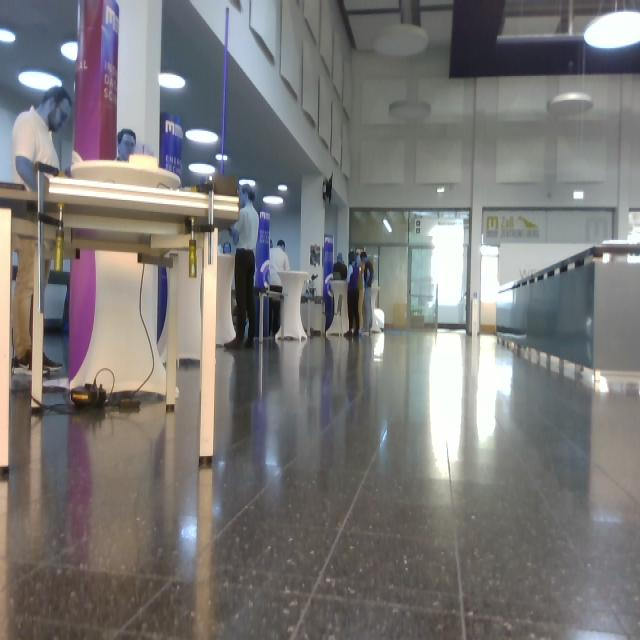door: (409, 211, 470, 331)
light bulb: (584, 9, 640, 50), (373, 24, 429, 58), (548, 92, 593, 117), (18, 71, 63, 91), (389, 100, 431, 121), (186, 129, 219, 144), (129, 153, 158, 169), (159, 73, 186, 90), (61, 41, 79, 61), (189, 163, 215, 175), (1, 29, 16, 44), (263, 196, 284, 205), (239, 178, 256, 188), (383, 218, 393, 233), (216, 153, 229, 162), (278, 184, 288, 192)
person: (12, 87, 73, 375), (224, 187, 260, 351), (269, 240, 291, 336)
tiled floor: (1, 327, 639, 639)
